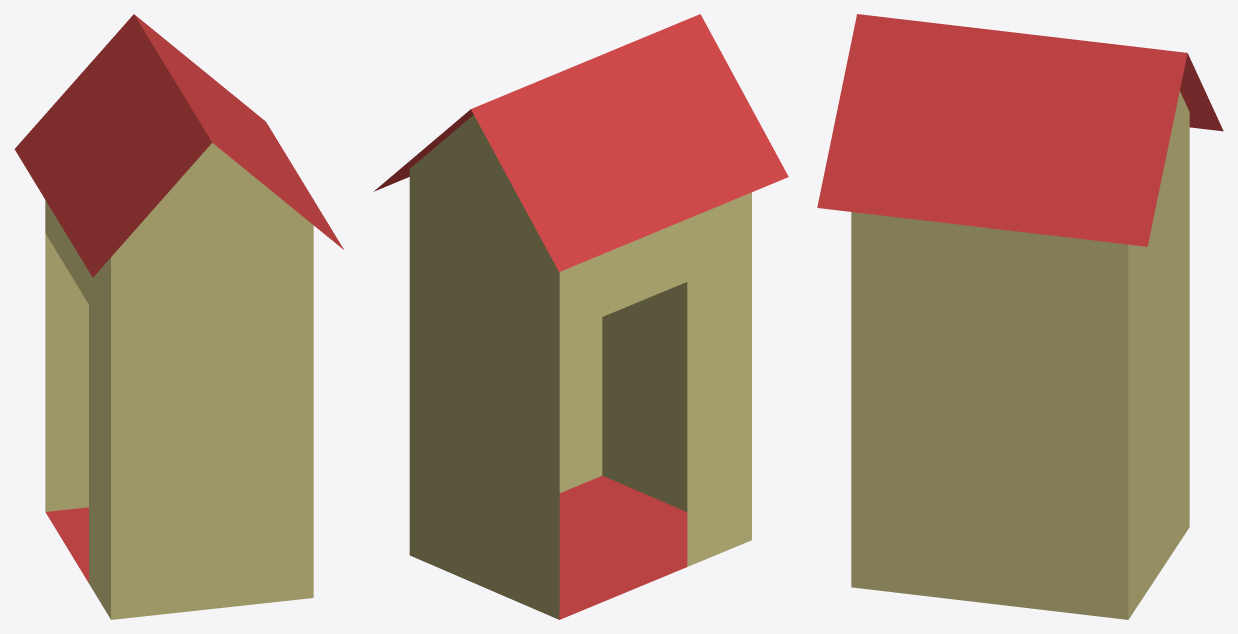
3 views of the same model, side by side, from view 1: azimuth 30°, elevation 25°; view 2: azimuth 150°, elevation 25°; view 3: azimuth 270°, elevation 25° (orthographic). The views are drawn at different scales.
Size of the model in its own units: 6.59 by 7.34 by 10.37.
